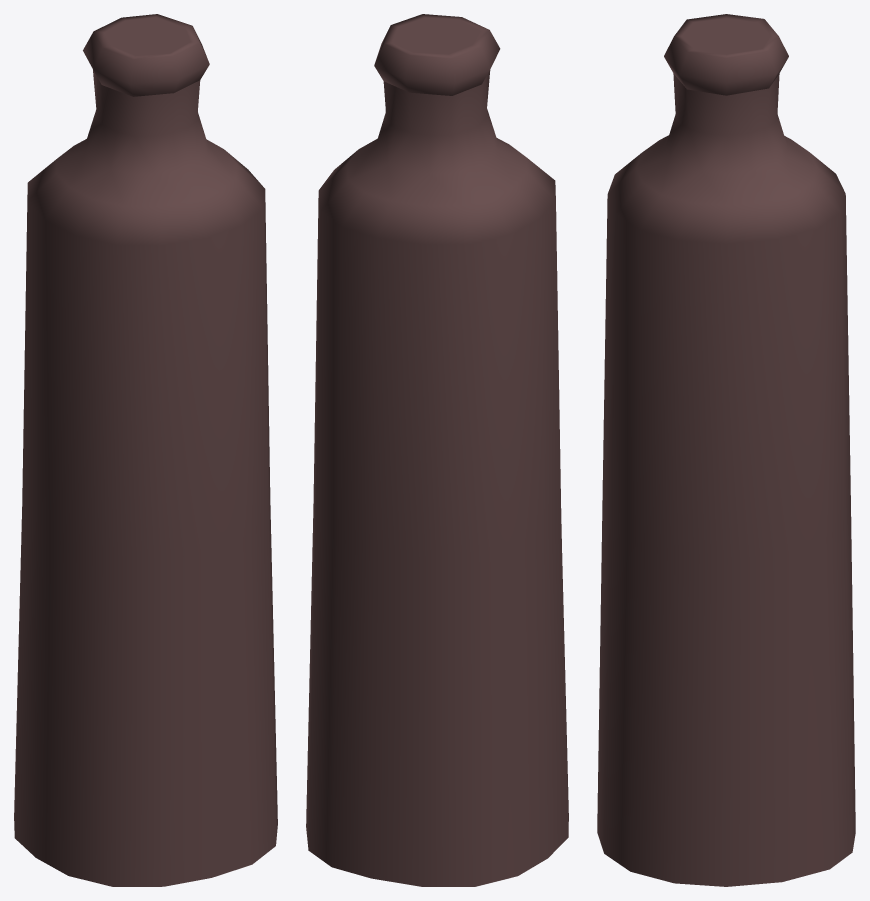
The model's file is flaske3_rosa.fbx.
3 renders of one model, left to right at view 1: azimuth 30°, elevation 25°; view 2: azimuth 150°, elevation 25°; view 3: azimuth 270°, elevation 25°, orthographic.
Visible parts, largest first — view 1: pCube14; view 2: pCube14; view 3: pCube14.
Part boxes in pixels (x1=…): pCube14: x1=14, y1=14, x2=277, y2=886; pCube14: x1=306, y1=14, x2=568, y2=886; pCube14: x1=597, y1=14, x2=855, y2=886.
Size of the model in its own units: 0.9438 by 3.21 by 0.9438.
